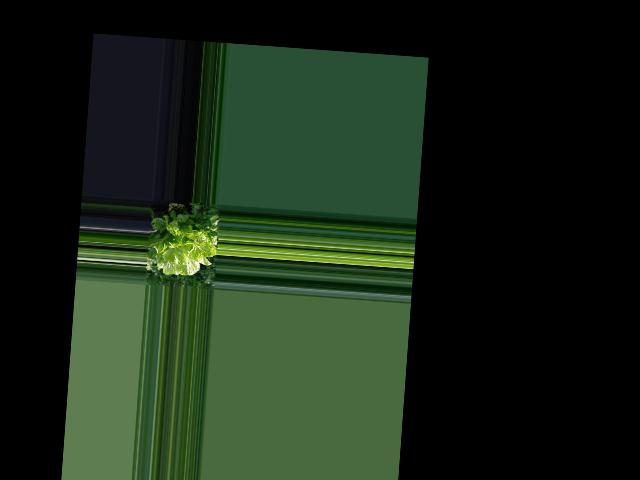lettuce: (148, 213, 212, 276)
